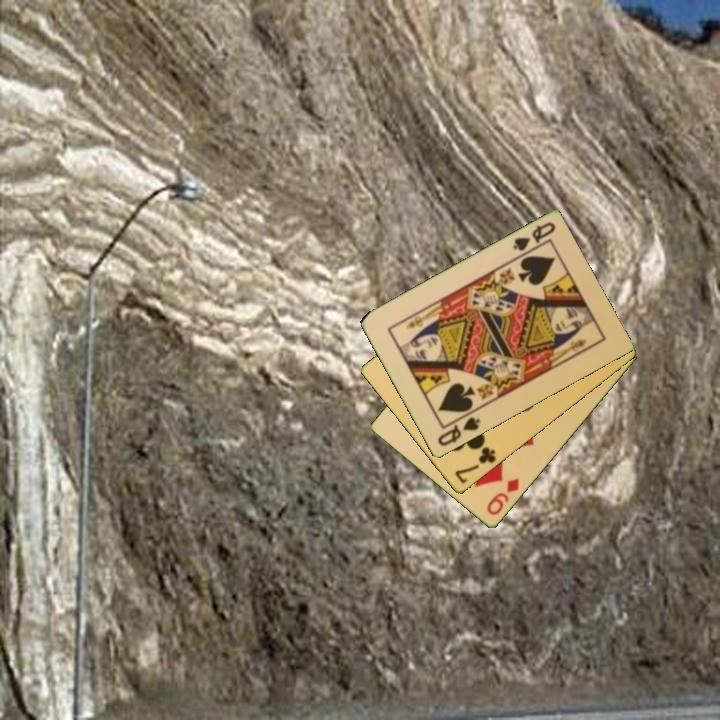7c: (451, 443, 499, 487)
9d: (483, 475, 522, 519)
Qs: (434, 414, 484, 449), (509, 219, 558, 254)
